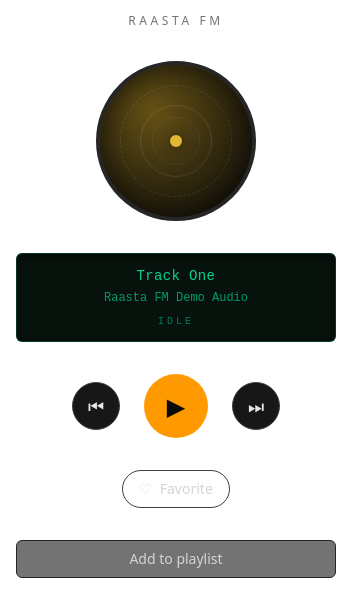
Test: PlayerPage › clicking Play switches the button to Pause and reflects playing state
This screenshot has width=353, height=595.
Click the button named "Play": {"x": 176, "y": 406} [144,374,208,438]
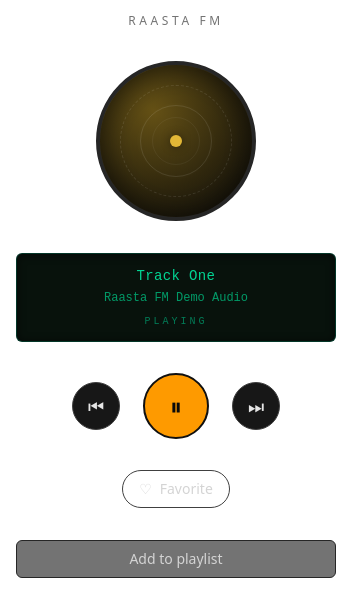
Result: the button named "Pause" is shown at [144,374,208,438]
Result: the text "playing" is shown at [144,316,208,327]
